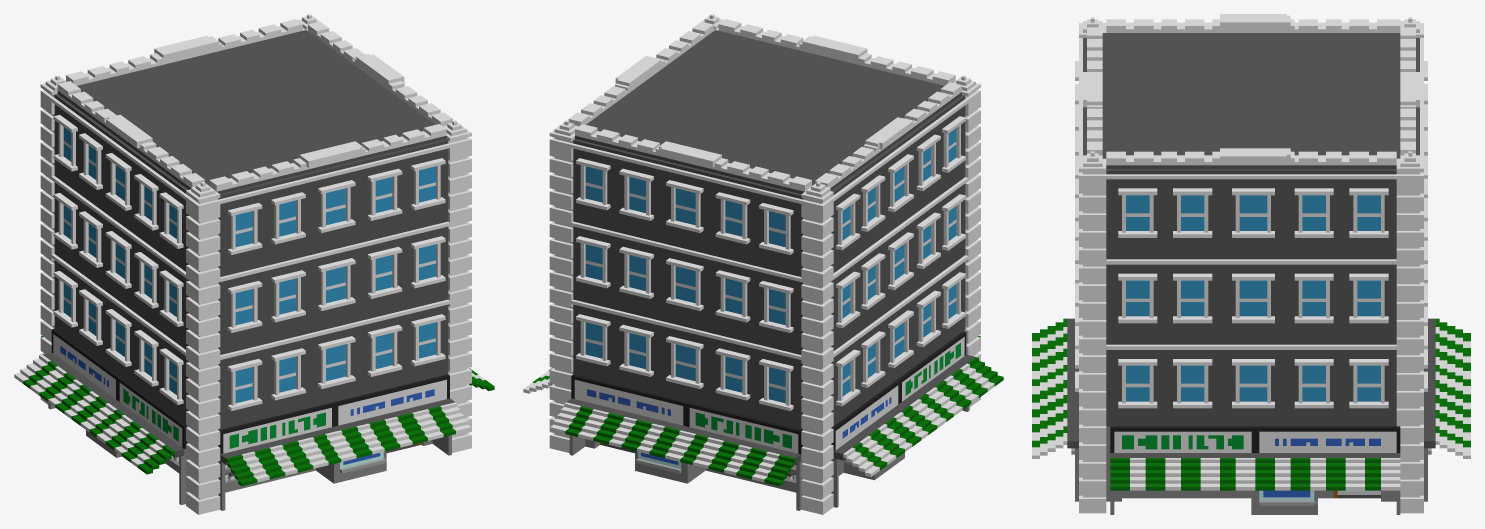
Rendered from obj_store07_Grey green.obj.
3 renders of one model, left to right at view 1: azimuth 30°, elevation 25°; view 2: azimuth 150°, elevation 25°; view 3: azimuth 270°, elevation 25°, orthographic. The views are drawn at different scales.
Size of the model in its own units: 11.2 by 10 by 11.2.
Materials: 1 (1 with a texture image).
